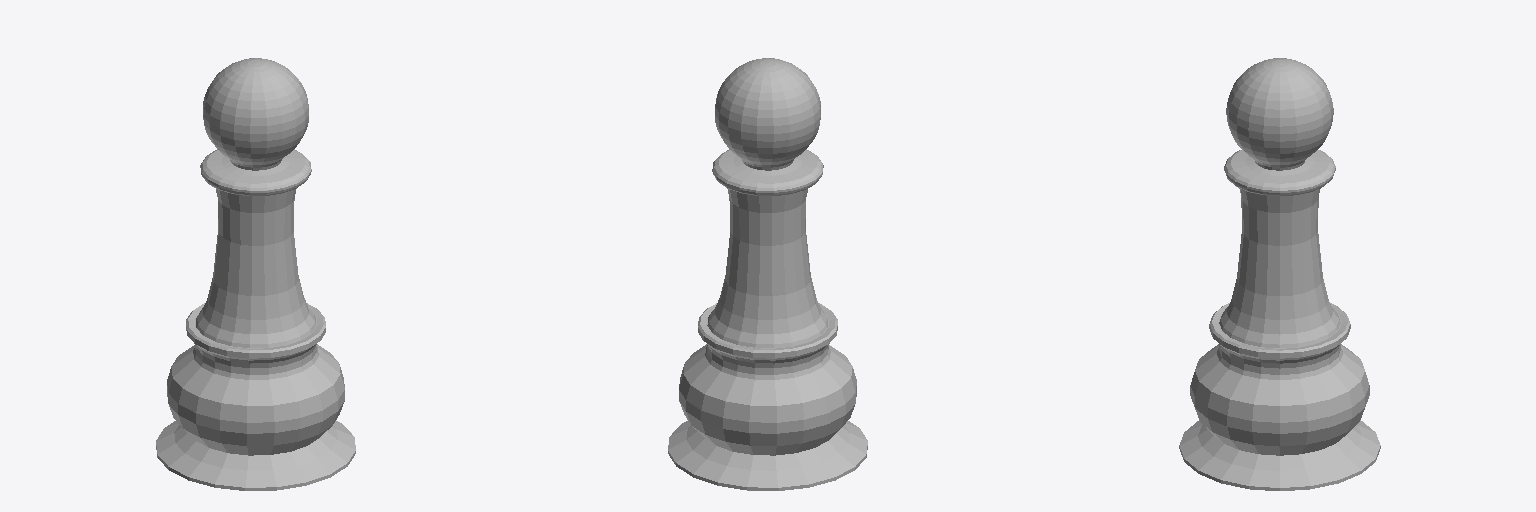
3 views of the same model, side by side, from view 1: azimuth 30°, elevation 25°; view 2: azimuth 150°, elevation 25°; view 3: azimuth 270°, elevation 25° (orthographic).
Visible parts, largest first — view 1: Pawn1_Pawn1Shape; view 2: Pawn1_Pawn1Shape; view 3: Pawn1_Pawn1Shape.
Part boxes in pixels (x1,y1,x2,y2): Pawn1_Pawn1Shape: (156,58,355,490); Pawn1_Pawn1Shape: (668,58,867,490); Pawn1_Pawn1Shape: (1179,58,1380,490).
Size of the model in its own units: 0.8131 by 1.72 by 0.8131.
Materials: 1 (1 with a texture image).